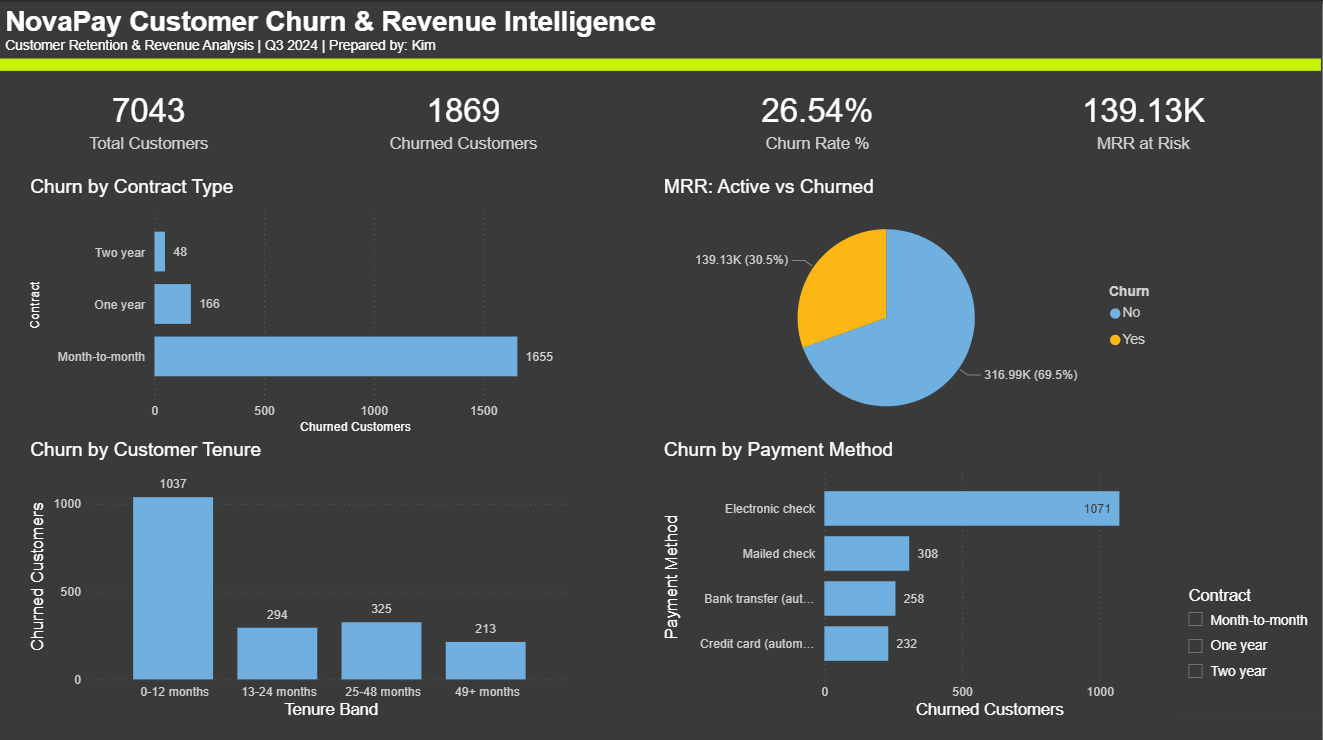

The page's visual inventory and layout, read from the dashboard file:
{"tool":"powerbi","page":{"name":"Excutive Dashboard","canvas":[1280,720],"ordinal":0},"visuals":[{"type":"textbox","box":[0,0,783.2,67.8],"z":0},{"type":"card","fields":{"Values":["novapay_customers.Total Customers"]},"box":[0.6,67.7,285.9,93.3],"z":1000},{"type":"card","fields":{"Values":["novapay_customers.Churned Customers"]},"box":[286.5,67.7,323.9,93.3],"z":2000},{"type":"card","fields":{"Values":["novapay_customers.Churn Rate %"]},"box":[627,67.8,329.3,93.2],"z":3000},{"type":"card","fields":{"Values":["novapay_customers.MRR at Risk"]},"box":[934.4,67.7,346,93.3],"z":4000},{"type":"clusteredBarChart","title":"Churn by Contract Type","fields":{"Category":["novapay_customers.Contract"],"Y":["novapay_customers.Churned Customers"]},"box":[24.2,169.5,533.8,254.2],"z":5000},{"type":"clusteredColumnChart","title":"Churn by Customer Tenure","fields":{"Category":["novapay_customers.Tenure Band"],"Y":["novapay_customers.Churned Customers"]},"box":[24.5,423.3,533.7,276.1],"z":6000},{"type":"pieChart","title":"MRR: Active vs Churned","fields":{"Category":["novapay_customers.Churn"],"Y":["novapay_customers.Total MRR"]},"box":[637.9,169.5,499.9,254.2],"z":7000},{"type":"slicer","fields":{"Values":["novapay_customers.Contract"]},"box":[1137.9,561.7,141.6,134.4],"z":8000},{"type":"clusteredBarChart","title":"Churn by Payment Method","fields":{"Category":["novapay_customers.PaymentMethod"],"Y":["novapay_customers.Churned Customers"]},"box":[637.9,423.7,499.9,276],"z":9000},{"type":"shape","box":[0,55.7,1279.5,12.1],"z":9001}]}

Visuals, with their boxes in screenshot pixels (x1, y1, x2, y2), scaled from the page's 1280x720 canvas onto the 1323x740 screenshot:
textbox: {"x1": 0, "y1": 0, "x2": 810, "y2": 70}
card - novapay_customers.Total Customers: {"x1": 1, "y1": 70, "x2": 296, "y2": 165}
card - novapay_customers.Churned Customers: {"x1": 296, "y1": 70, "x2": 631, "y2": 165}
card - novapay_customers.Churn Rate %: {"x1": 648, "y1": 70, "x2": 988, "y2": 165}
card - novapay_customers.MRR at Risk: {"x1": 966, "y1": 70, "x2": 1322, "y2": 165}
"Churn by Contract Type" clusteredBarChart: {"x1": 25, "y1": 174, "x2": 577, "y2": 435}
"Churn by Customer Tenure" clusteredColumnChart: {"x1": 25, "y1": 435, "x2": 577, "y2": 719}
"MRR: Active vs Churned" pieChart: {"x1": 659, "y1": 174, "x2": 1176, "y2": 435}
slicer - novapay_customers.Contract: {"x1": 1176, "y1": 577, "x2": 1322, "y2": 715}
"Churn by Payment Method" clusteredBarChart: {"x1": 659, "y1": 435, "x2": 1176, "y2": 719}
shape: {"x1": 0, "y1": 57, "x2": 1322, "y2": 70}
